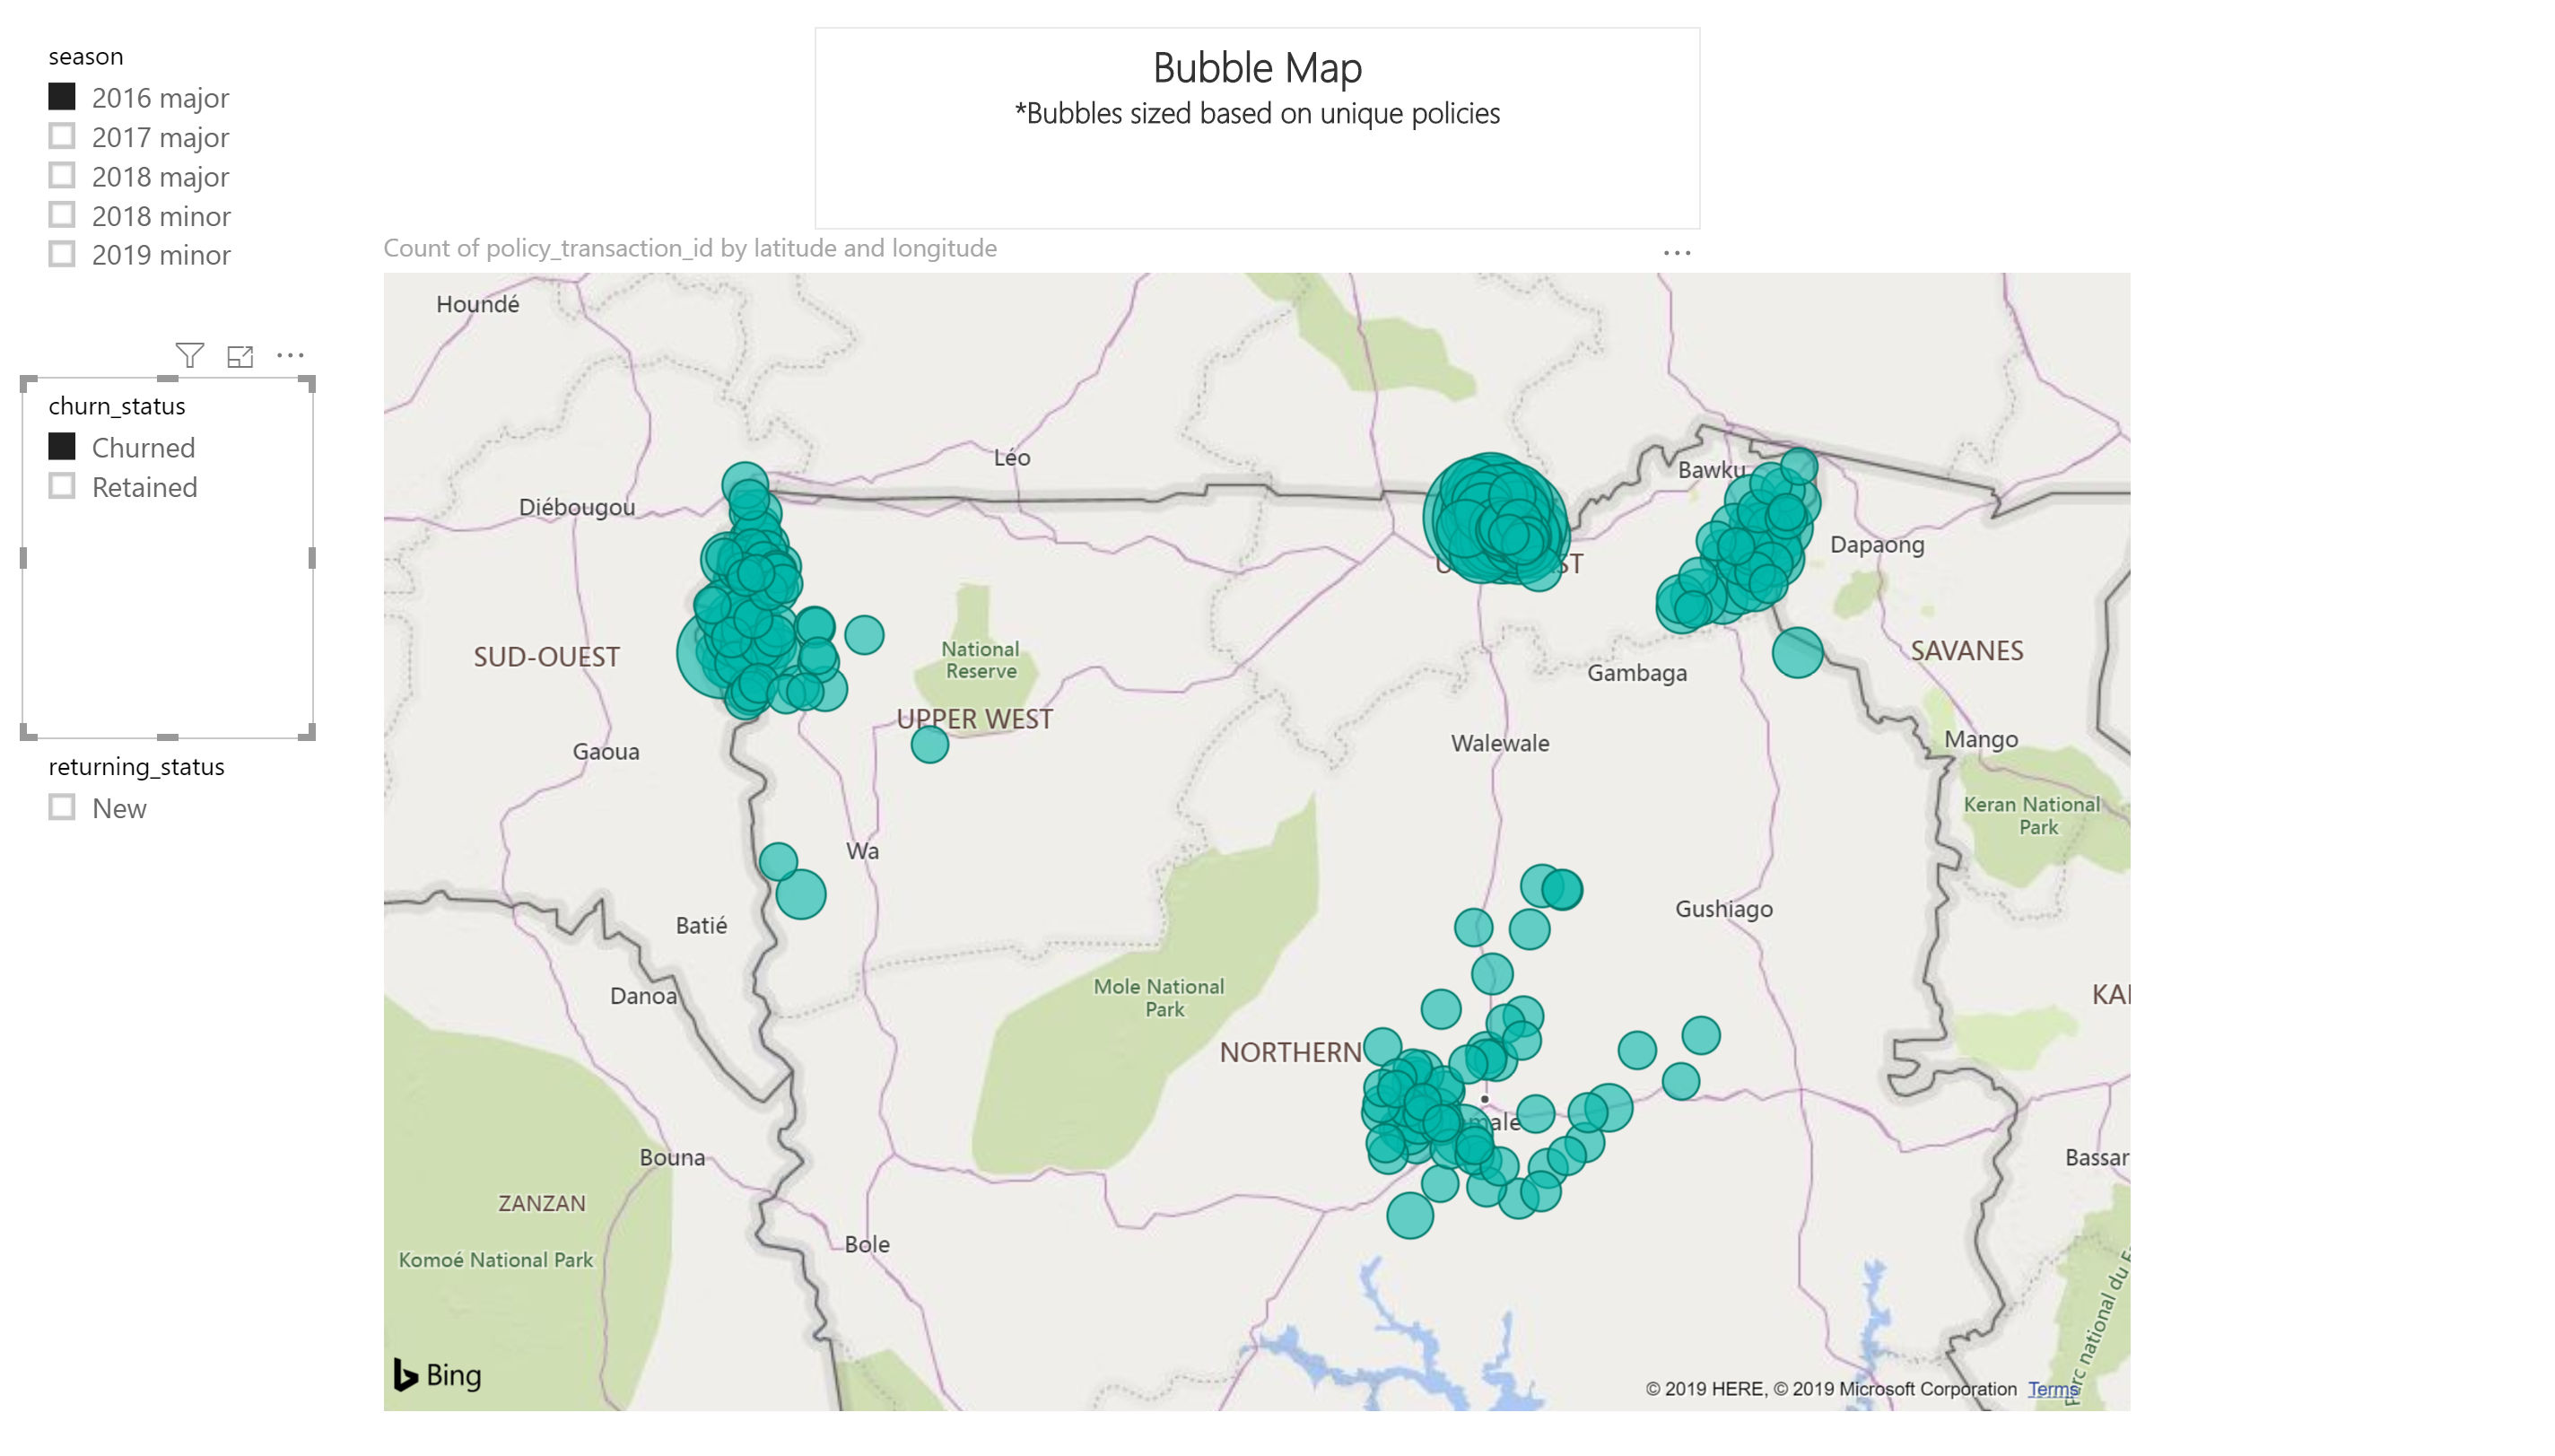

The page's visual inventory and layout, read from the dashboard file:
{"tool":"powerbi","page":{"name":"Map","canvas":[1280,720],"ordinal":4},"visuals":[{"type":"map","fields":{"X":["Final_table.longitude"],"Y":["Final_table.latitude"],"Size":["CountNonNull(Final_table.policy_transaction_id)"]},"box":[181.4,114.5,853.6,575.5],"z":0},{"type":"textbox","box":[394.1,16.4,428.2,98.2],"z":1000},{"type":"slicer","fields":{"Values":["Final_table.season"]},"box":[10.9,16.4,141.8,174.5],"z":2000},{"type":"slicer","fields":{"Values":["Final_table.churn_status"]},"box":[10.9,185.5,141.8,174.5],"z":3000},{"type":"slicer","fields":{"Values":["Final_table.returning_status"]},"box":[10.9,360,141.8,174.5],"z":4000}]}

Visuals, with their boxes on the page's 1280x720 design canvas (x1, y1, x2, y2). These are canvas units, not pixel positions in the 2555x1456 screenshot, which may show the page scaled, cropped or inside an application window:
map - Final_table.longitude x Final_table.latitude: (181,114,1035,690)
textbox: (394,16,822,115)
slicer - Final_table.season: (11,16,153,191)
slicer - Final_table.churn_status: (11,186,153,360)
slicer - Final_table.returning_status: (11,360,153,534)
